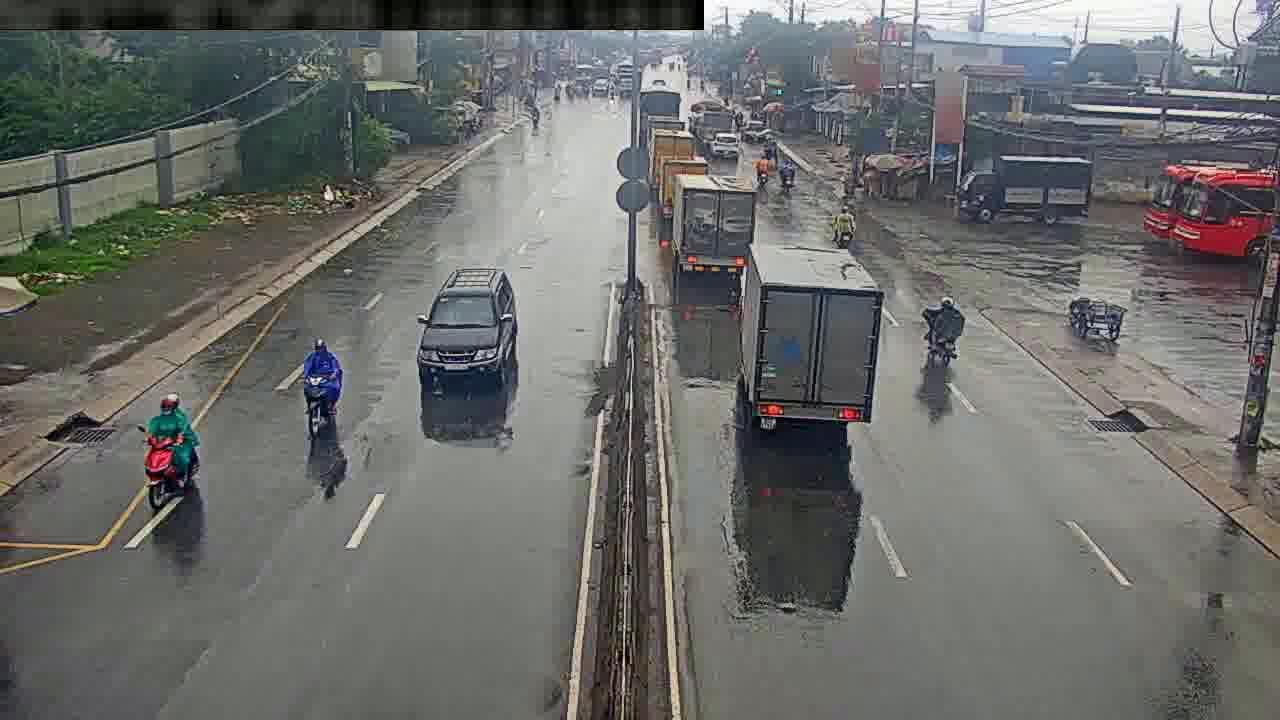8: (739, 246, 877, 426), (673, 176, 753, 273)
container: (411, 269, 515, 392)
motorbike: (139, 403, 194, 520), (302, 338, 346, 443), (925, 297, 957, 372), (835, 202, 854, 246), (781, 158, 793, 190)
